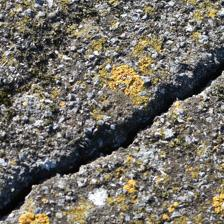Crack: (4, 33, 216, 185)
